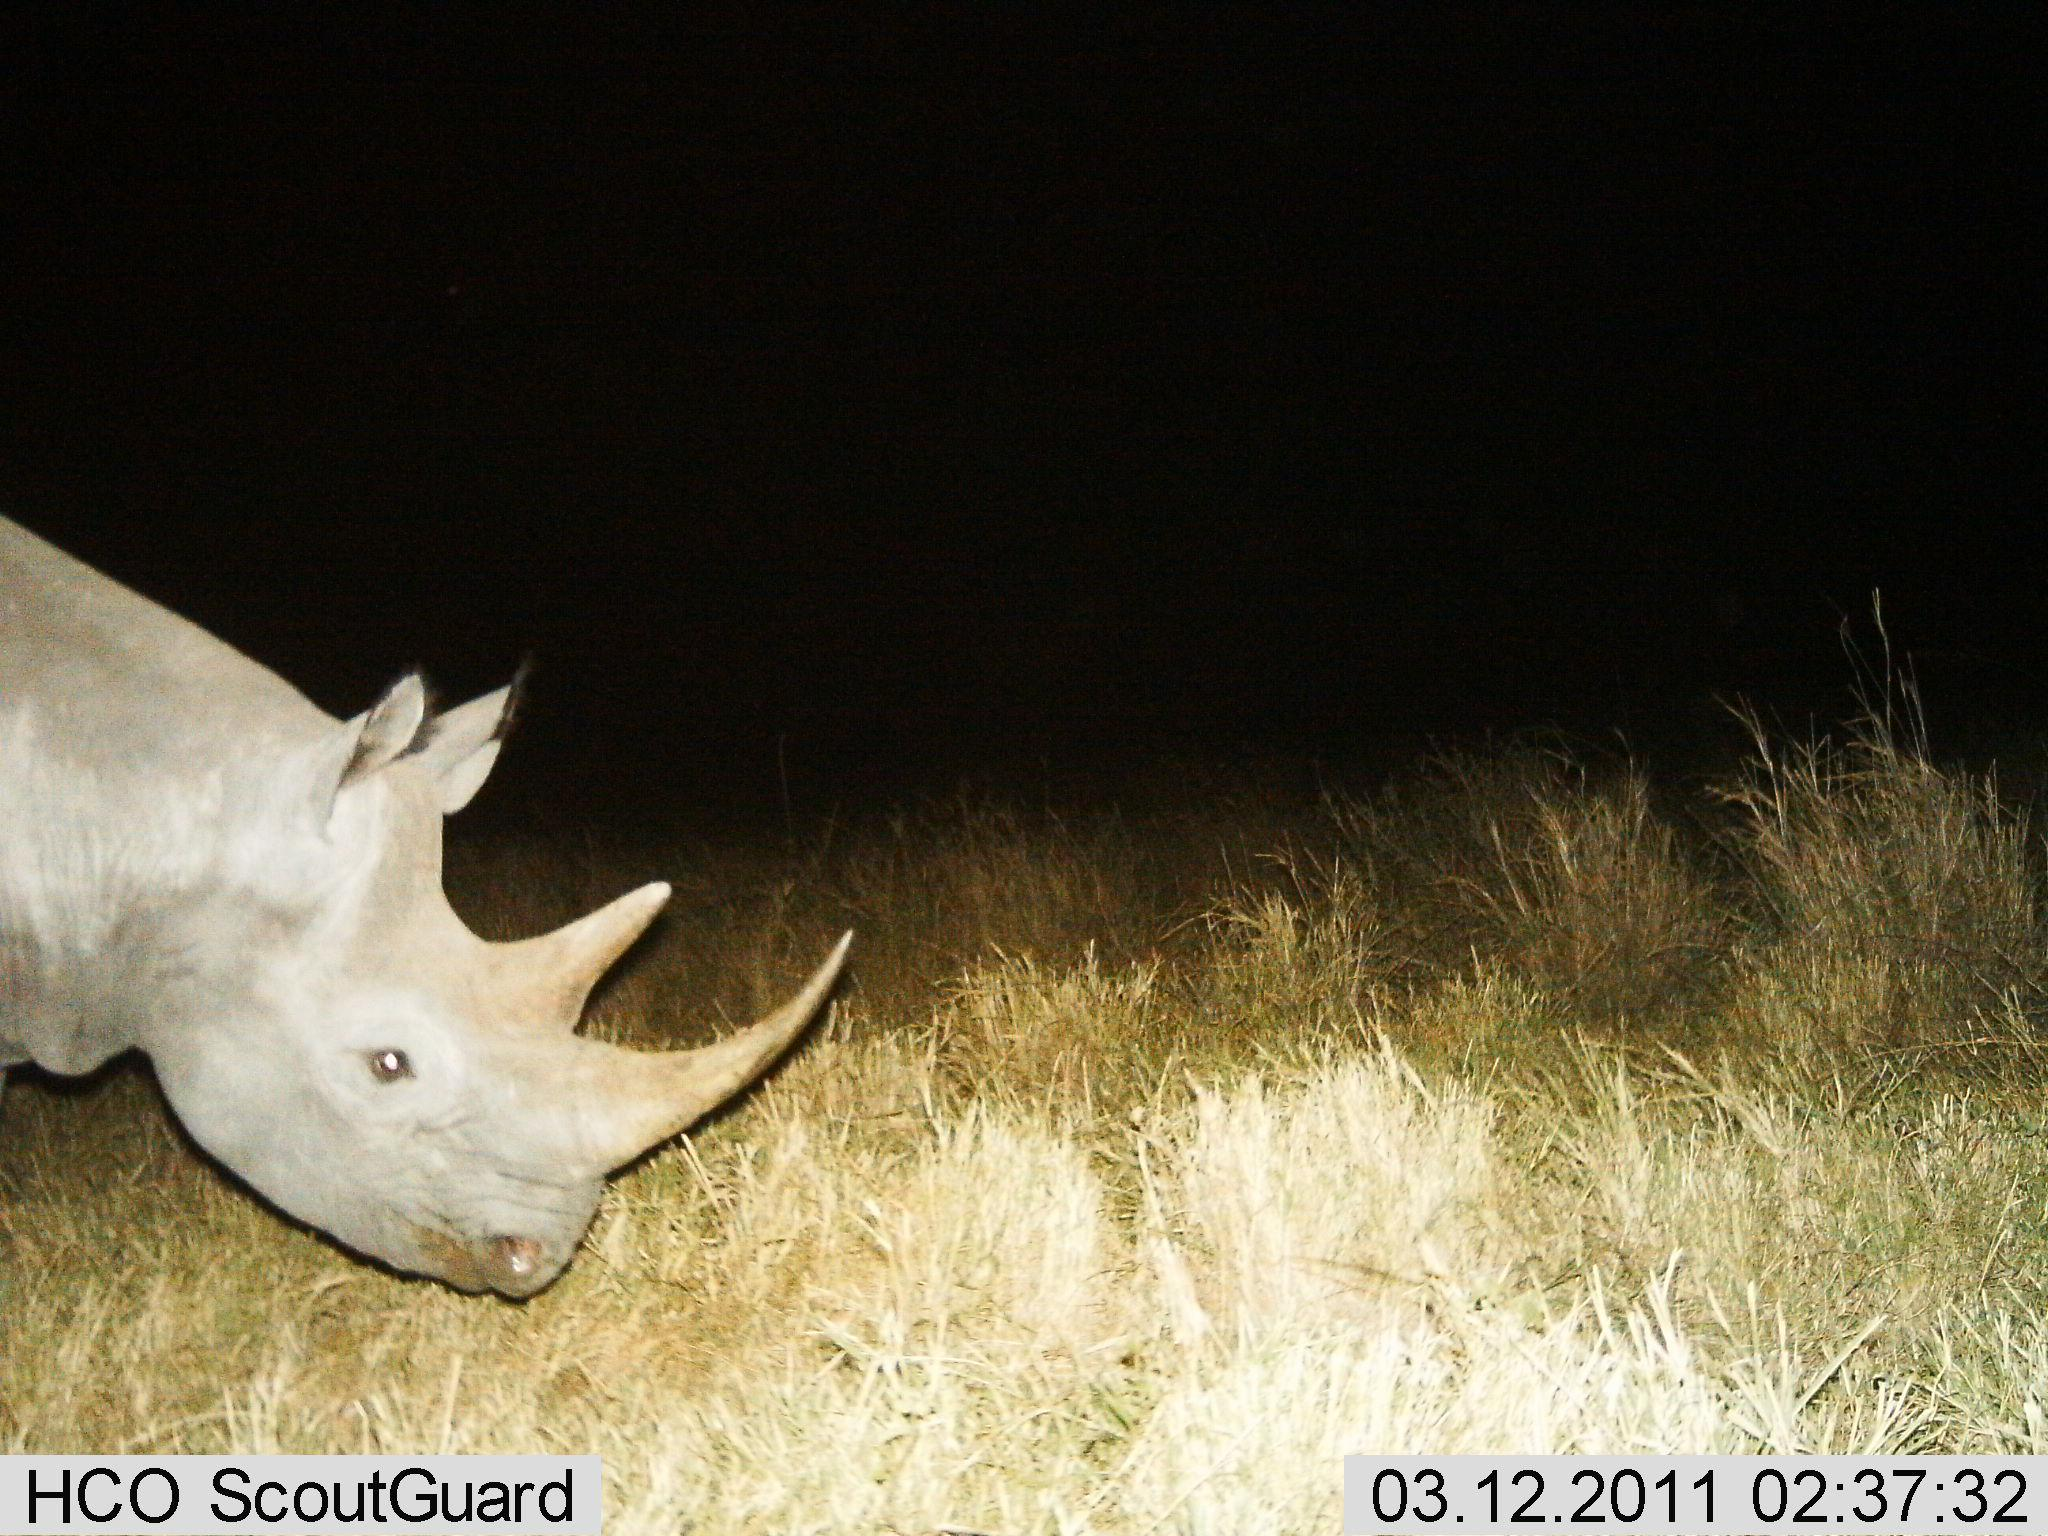rhinoceros: (0, 515, 862, 1335)
